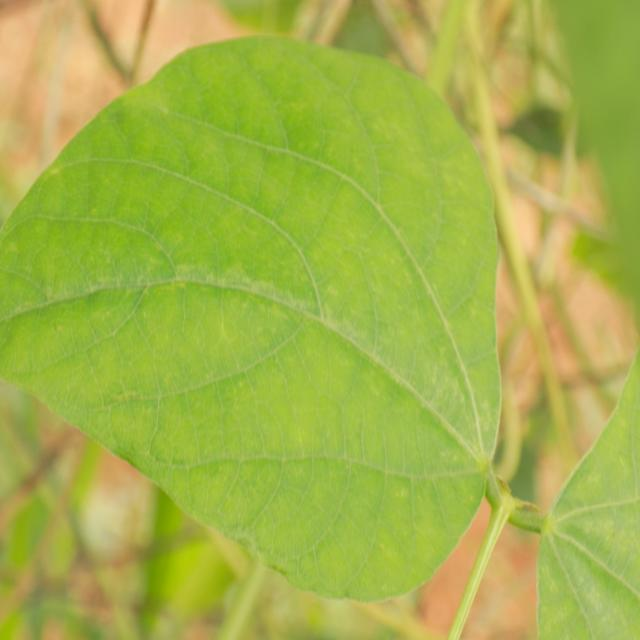Dolicos bean_healthy: (0, 34, 505, 601)
